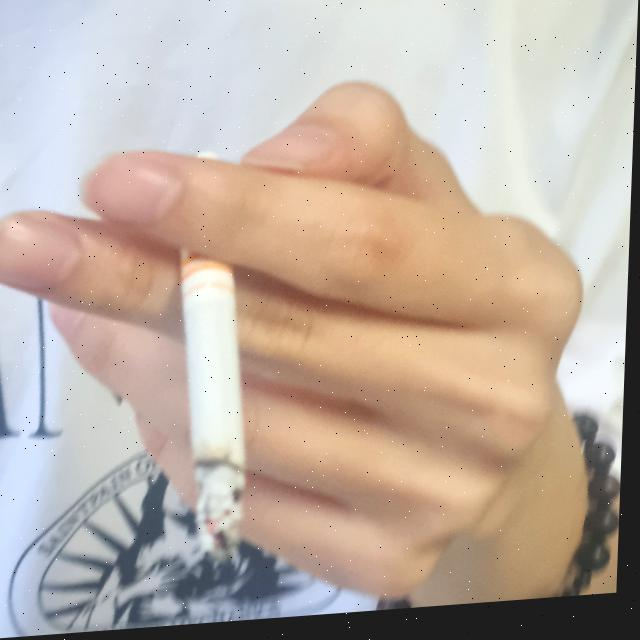cigarette: (170, 151, 264, 567)
